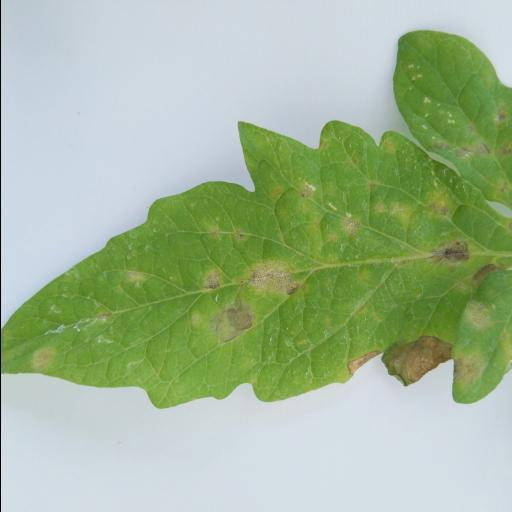disease_tomato: (0, 26, 512, 414)
